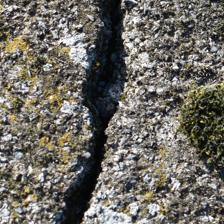Crack: (25, 2, 112, 219)
